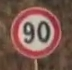limite 90: (9, 5, 62, 59)
